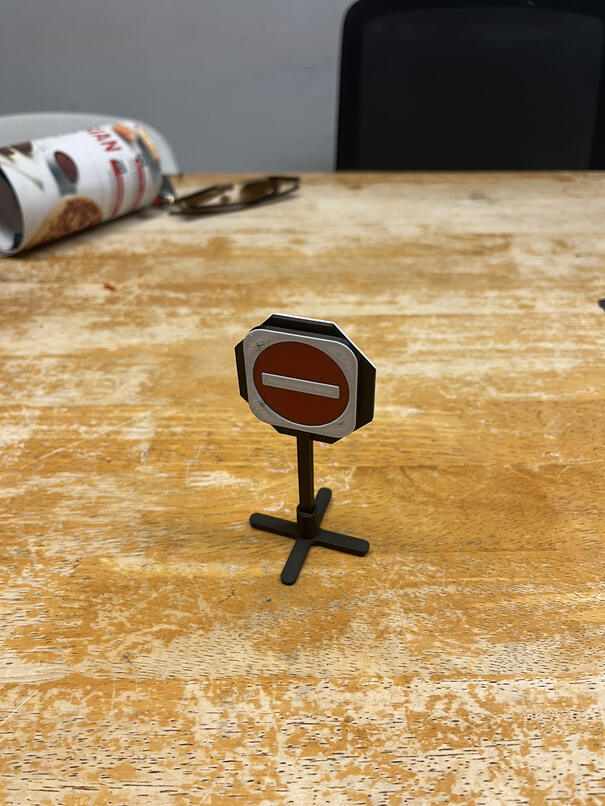sign_noentry: (235, 324, 361, 442)
